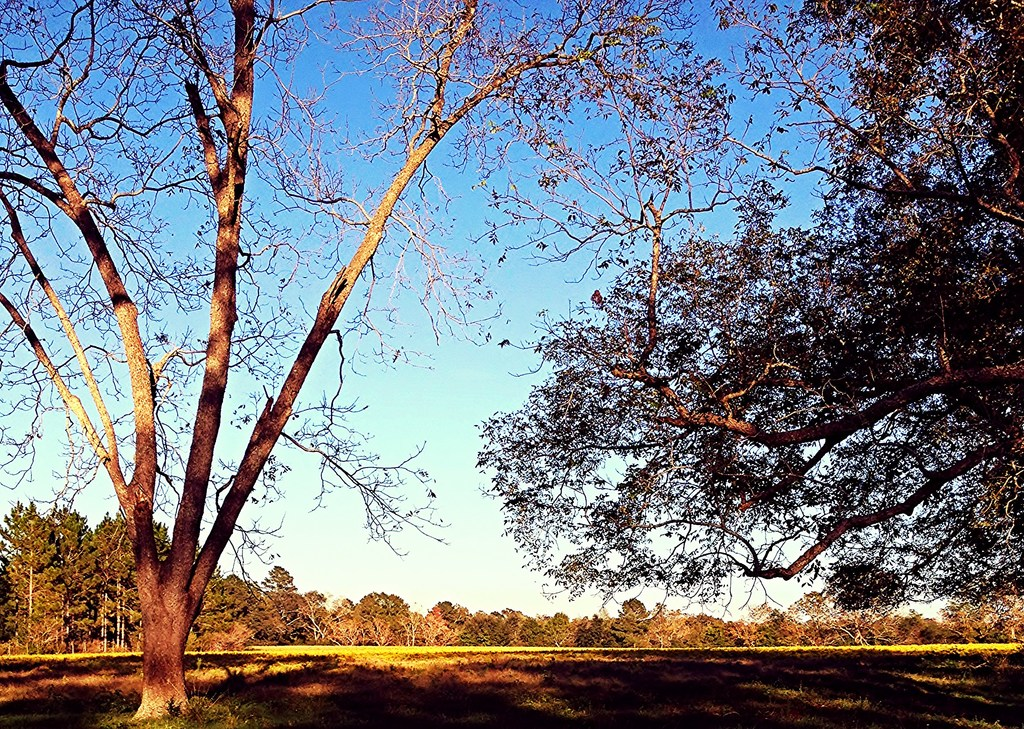Tree: (0, 0, 732, 721), (461, 0, 1023, 657), (0, 493, 147, 654), (734, 587, 1023, 649), (183, 561, 316, 657), (314, 587, 456, 645)
